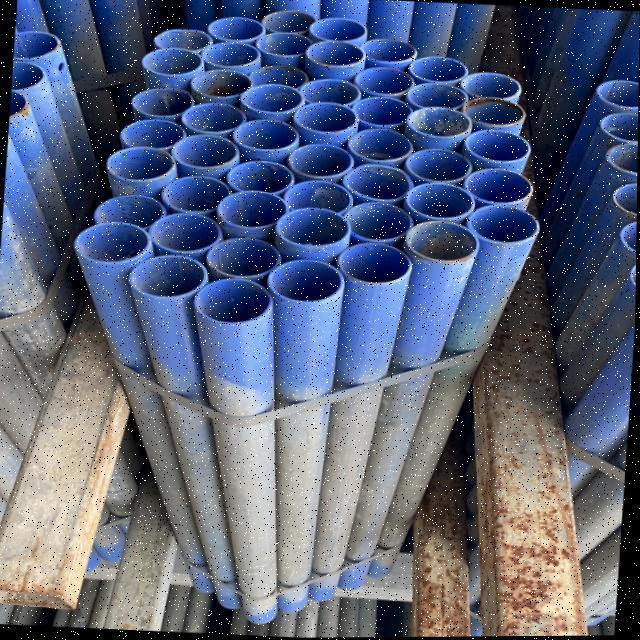pipe: (126, 252, 209, 302), (193, 277, 274, 327), (72, 220, 153, 268), (266, 258, 347, 306), (335, 242, 415, 288), (274, 206, 352, 252), (404, 220, 481, 266), (465, 204, 542, 249), (205, 236, 283, 280), (147, 212, 224, 256), (340, 201, 415, 245), (215, 189, 290, 233), (404, 182, 476, 224), (160, 175, 232, 217), (341, 164, 415, 204), (93, 193, 167, 233), (462, 167, 535, 207), (105, 145, 176, 185), (168, 133, 240, 172), (282, 180, 355, 218), (462, 129, 532, 167), (225, 160, 295, 198), (404, 148, 473, 185), (346, 128, 415, 165), (286, 143, 355, 180), (232, 118, 300, 154), (291, 102, 360, 137), (406, 106, 474, 141), (238, 83, 306, 117), (181, 101, 247, 136), (120, 119, 187, 152), (461, 97, 526, 130), (350, 97, 414, 130), (190, 68, 253, 101), (131, 86, 194, 119), (298, 77, 362, 109), (405, 83, 468, 114), (140, 48, 203, 79), (353, 67, 414, 99), (305, 40, 366, 71), (247, 64, 308, 95), (459, 72, 522, 101), (407, 56, 468, 85), (358, 37, 417, 66), (254, 32, 313, 61), (199, 42, 260, 70), (206, 16, 266, 44), (307, 17, 366, 45), (152, 28, 213, 55), (260, 10, 317, 37)
